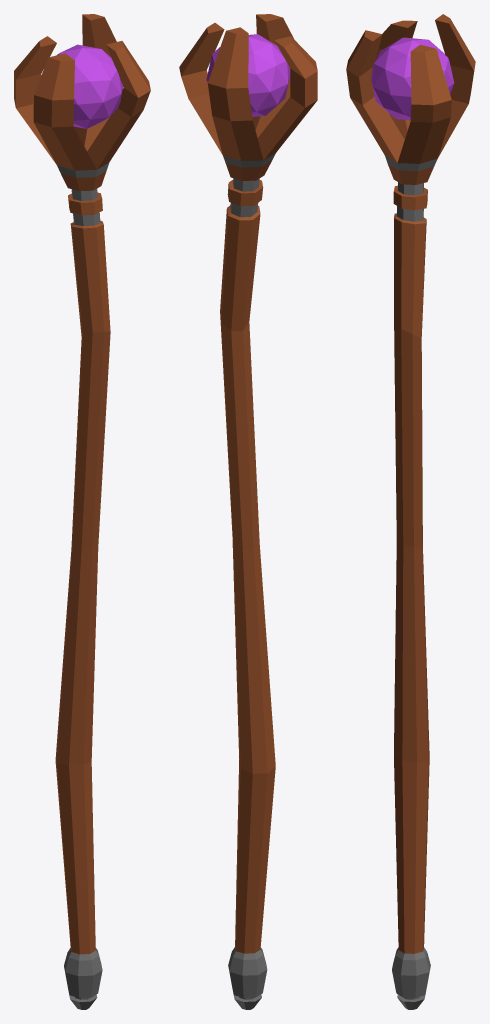
The model's file is Staff (1).fbx.
3 renders of one model, left to right at view 1: azimuth 30°, elevation 25°; view 2: azimuth 210°, elevation 25°; view 3: azimuth 330°, elevation 25°, orthographic.
Visible parts, largest first — view 1: Cube; view 2: Cube; view 3: Cube.
Part boxes in pixels (<box>): Cube: <box>14,14,150,1009</box>; Cube: <box>179,14,317,1009</box>; Cube: <box>346,14,475,1009</box>.
Size of the model in its own units: 10.48 by 9.32 by 89.83.
